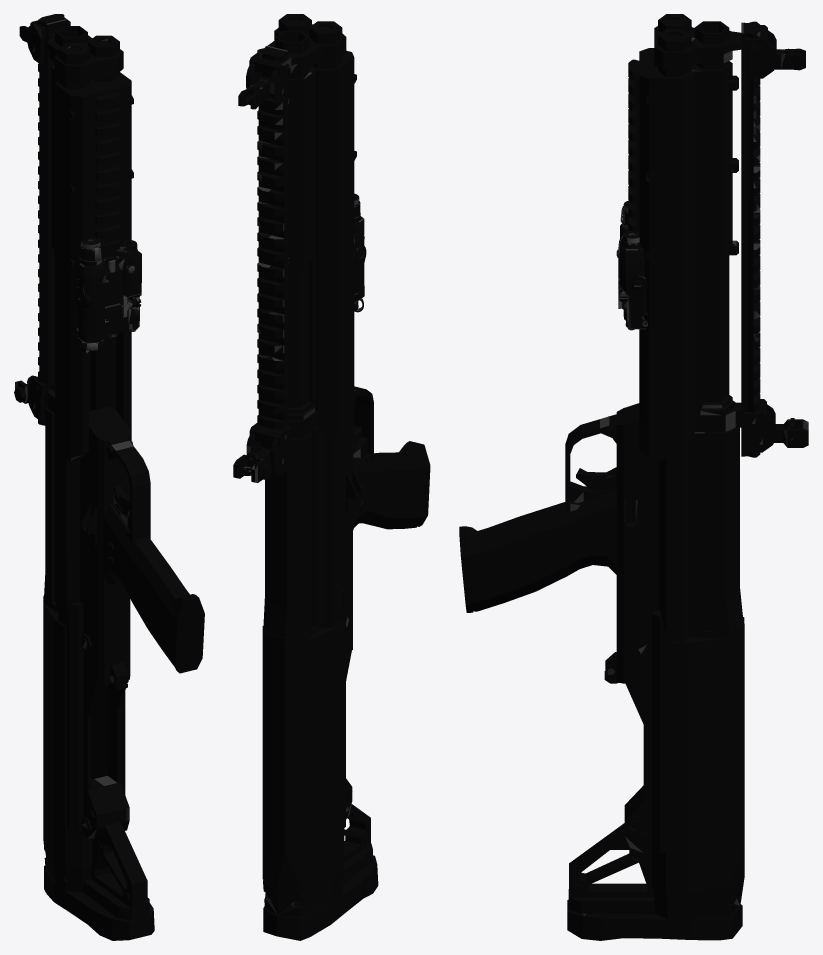
The model's file is KSG__Laser_Rifle.fbx.
3 views of the same model, side by side, from view 1: azimuth 30°, elevation 25°; view 2: azimuth 150°, elevation 25°; view 3: azimuth 270°, elevation 25° (orthographic). The views are drawn at different scales.
Parts seen in each view (by area): view 1: asset_KSG.001; view 2: asset_KSG.001; view 3: asset_KSG.001.
Boxes of the visible parts, x1,y1,x2,y2 form: asset_KSG.001: (14, 14, 204, 940); asset_KSG.001: (233, 14, 430, 940); asset_KSG.001: (459, 14, 808, 940).
Size of the model in its own units: 0.03 by 0.396 by 0.139.
